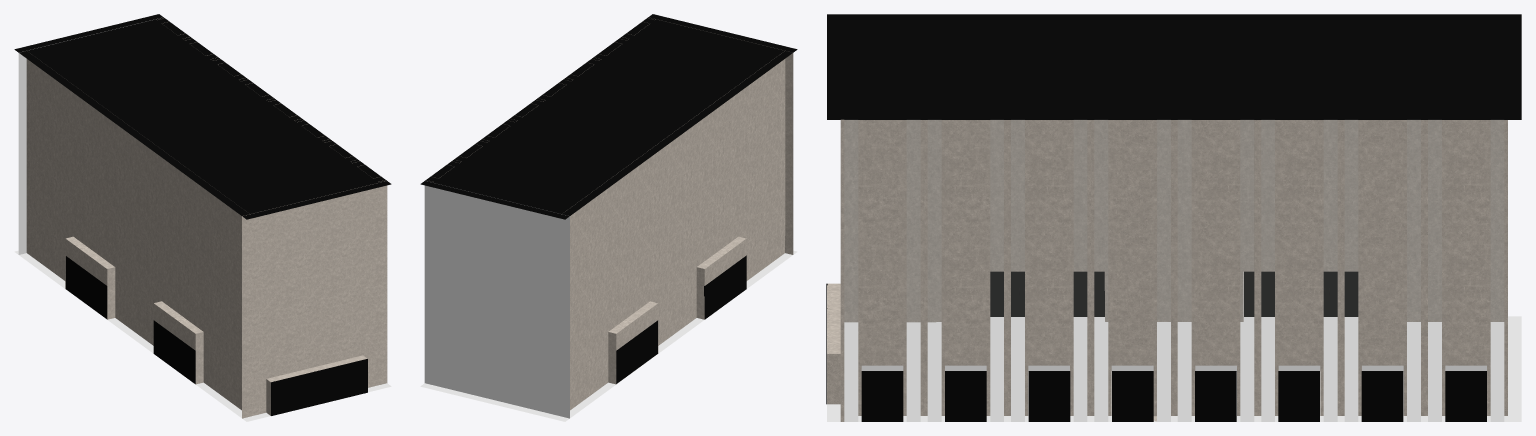
File: Hall acabadoSinCarasExtArregladoMateriales.glb
3 renders of one model, left to right at view 1: azimuth 30°, elevation 25°; view 2: azimuth 150°, elevation 25°; view 3: azimuth 270°, elevation 25°, orthographic. The views are drawn at different scales.
Visible parts, largest first — view 1: Muro museo, Techo metal, Muro Oficina, Muro Fondo, Suelo, puerta.003, puerta.001, puerta.004, puerta.006, puerta.007, puerta, puerta.002 (+2 smaller); view 2: Muro museo, Techo metal, Muro Fondo, Suelo, Muro Oficina; view 3: Muro Ventanas, Techo metal, Ventanas verticales, Muro museo, Suelo, Muro Oficina, Techo iluminado, puerta.022, puerta.024, puerta.025, puerta.026, puerta.029 (+15 smaller).
Part boxes in pixels (<box>): Muro museo: <box>26,51,249,410</box>; Techo metal: <box>14,14,391,219</box>; Muro Oficina: <box>242,181,387,418</box>; Muro Fondo: <box>18,17,161,254</box>; Suelo: <box>14,250,391,421</box>; puerta.003: <box>307,370,319,407</box>; puerta.001: <box>271,379,283,415</box>; puerta.004: <box>343,361,355,398</box>; puerta.006: <box>319,367,331,404</box>; puerta.007: <box>355,359,367,395</box>; puerta: <box>283,376,295,413</box>; puerta.002: <box>295,373,307,410</box>; Muro museo: <box>565,51,785,410</box>; Techo metal: <box>420,14,797,219</box>; Muro Fondo: <box>424,181,569,418</box>; Suelo: <box>420,250,797,421</box>; Muro Oficina: <box>650,17,793,254</box>; Muro Ventanas: <box>840,119,1507,421</box>; Techo metal: <box>827,14,1521,119</box>; Ventanas verticales: <box>844,120,1503,421</box>; Muro museo: <box>844,120,1504,322</box>; Suelo: <box>827,316,1521,421</box>; Muro Oficina: <box>827,283,840,404</box>; Techo iluminado: <box>862,366,1486,371</box>; puerta.022: <box>1278,371,1299,421</box>; puerta.024: <box>1382,371,1403,421</box>; puerta.025: <box>1361,371,1382,421</box>; puerta.026: <box>1445,371,1466,421</box>; puerta.029: <box>1132,371,1153,421</box>.
Bounding box in the file's own units: 9 × 12 × 25.03.
9 materials, 6 textured.
